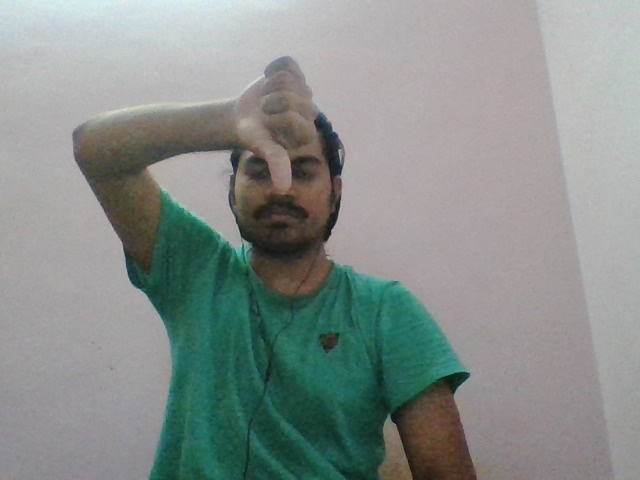ThumbsDown: (232, 53, 322, 199)
